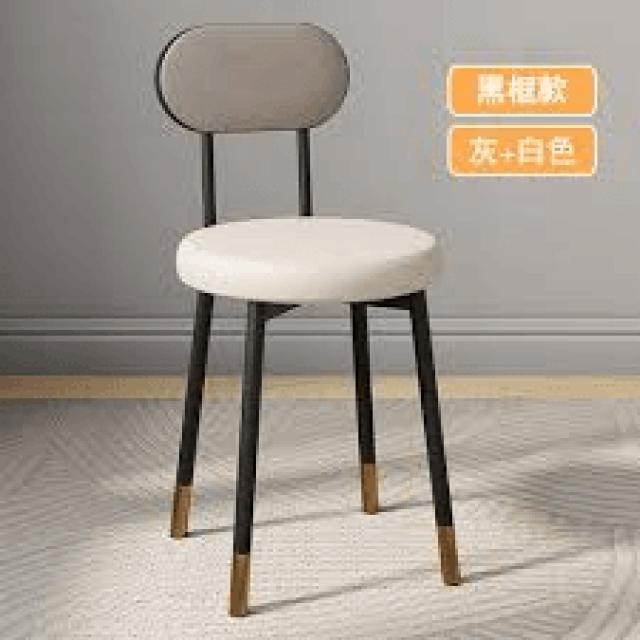chair: (150, 16, 466, 618), (146, 18, 430, 284)
